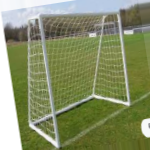goals: (26, 9, 131, 150)
